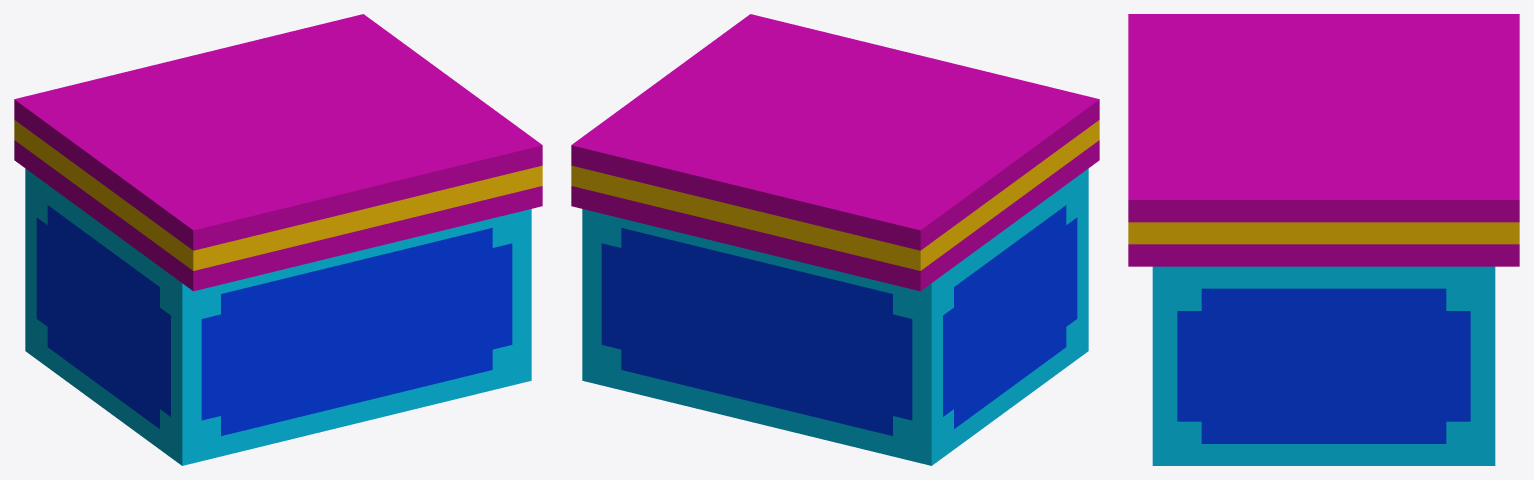
Rendered from wall_1x1_2.obj.
3 views of the same model, side by side, from view 1: azimuth 30°, elevation 25°; view 2: azimuth 150°, elevation 25°; view 3: azimuth 270°, elevation 25° (orthographic). The views are drawn at different scales.
Bounding box in the file's own units: 1.8 × 1.2 × 1.6.
1 material, 1 textured.
